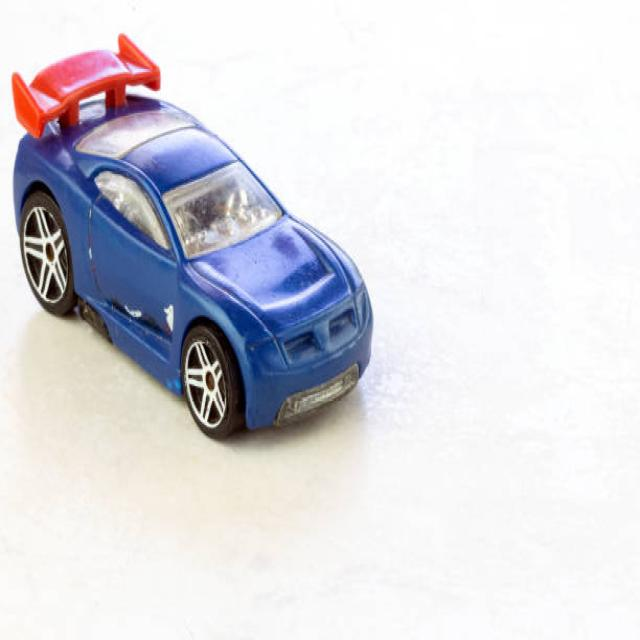Car: (13, 36, 372, 438)
